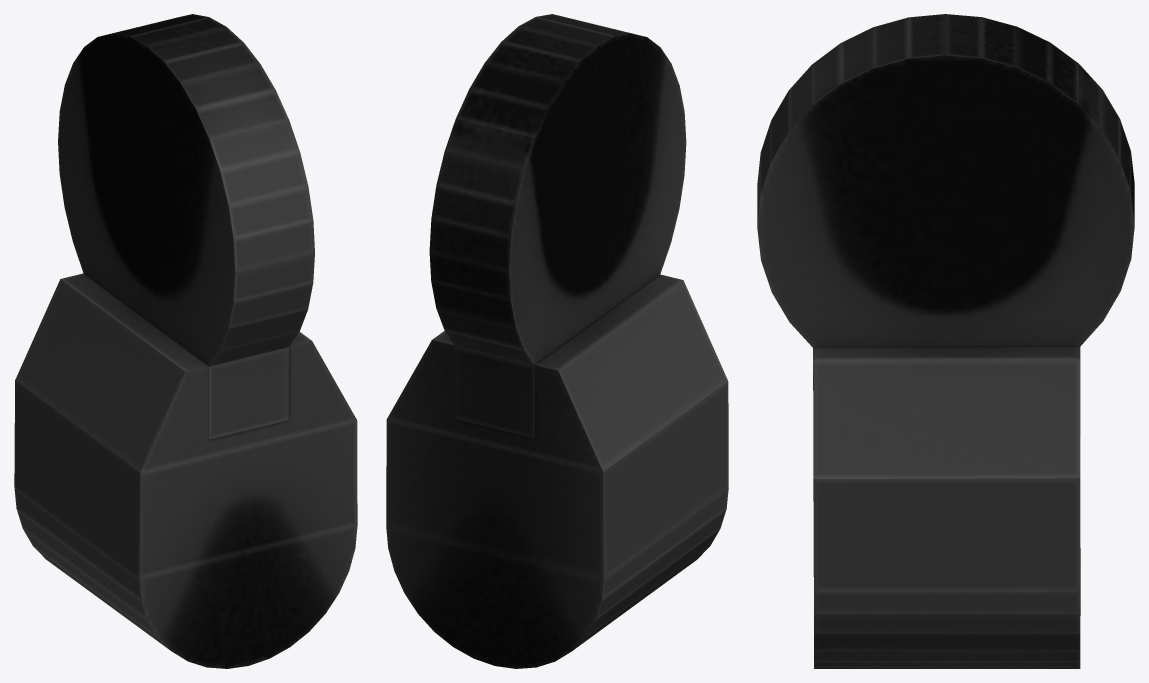
Rendered from wrist.dae.
3 views of the same model, side by side, from view 1: azimuth 30°, elevation 25°; view 2: azimuth 150°, elevation 25°; view 3: azimuth 270°, elevation 25° (orthographic). The views are drawn at different scales.
Visible parts, largest first — view 1: root-base-bigarm-smallarm-knuckle; view 2: root-base-bigarm-smallarm-knuckle; view 3: root-base-bigarm-smallarm-knuckle.
Part boxes in pixels (x1=…): root-base-bigarm-smallarm-knuckle: x1=14, y1=14, x2=357, y2=668; root-base-bigarm-smallarm-knuckle: x1=386, y1=14, x2=728, y2=668; root-base-bigarm-smallarm-knuckle: x1=757, y1=14, x2=1134, y2=668.
Bounding box in the file's own units: 0.0895 × 0.1261 × 0.2292.
